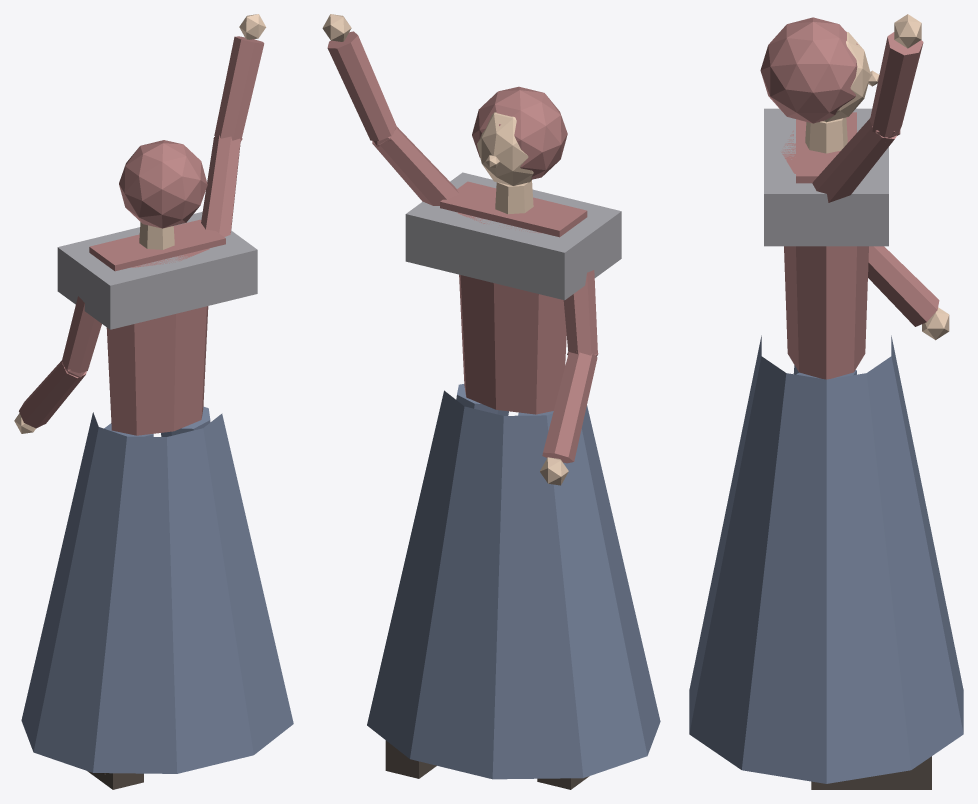
File: townswoman_shouting.glb
3 views of the same model, side by side, from view 1: azimuth 30°, elevation 25°; view 2: azimuth 150°, elevation 25°; view 3: azimuth 270°, elevation 25° (orthographic). The views are drawn at different scales.
Parts seen in each view (by area): view 1: skirt_blue, shawl, shawl_grey, skin, boot; view 2: skirt_blue, shawl, shawl_grey, skin, boot; view 3: skirt_blue, shawl, shawl_grey, skin, boot.
Boxes of the visible parts, x1,y1,x2,y2 form: skirt_blue: (21,406,293,773); shawl: (19,36,264,435); shawl_grey: (57,212,257,329); skin: (14,14,266,433); boot: (87,771,143,789); skirt_blue: (367,384,660,779); shawl: (327,31,598,463); shawl_grey: (405,172,621,300); skin: (322,14,568,485); boot: (385,740,589,789); skirt_blue: (689,335,963,783); shawl: (760,17,939,379); shawl_grey: (764,108,888,246); skin: (805,14,949,340); boot: (811,756,931,789).
Size of the model in its own units: 0.7506 by 1.85 by 0.5714.
